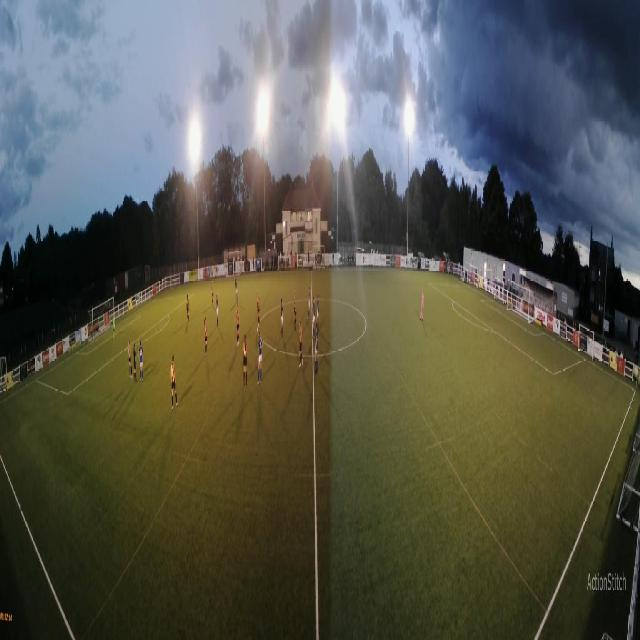player: (170, 353, 179, 410), (257, 331, 263, 386), (298, 318, 304, 368), (243, 334, 248, 386), (138, 340, 144, 382), (128, 339, 134, 379), (314, 323, 318, 375), (133, 343, 138, 383), (312, 295, 316, 341), (236, 304, 240, 348), (281, 297, 285, 337), (419, 289, 424, 321), (204, 316, 208, 355), (256, 291, 260, 330), (315, 293, 319, 332), (307, 286, 311, 321), (294, 290, 297, 331), (186, 294, 190, 324), (216, 293, 219, 328), (111, 314, 115, 340), (211, 280, 214, 307), (235, 277, 238, 304)
